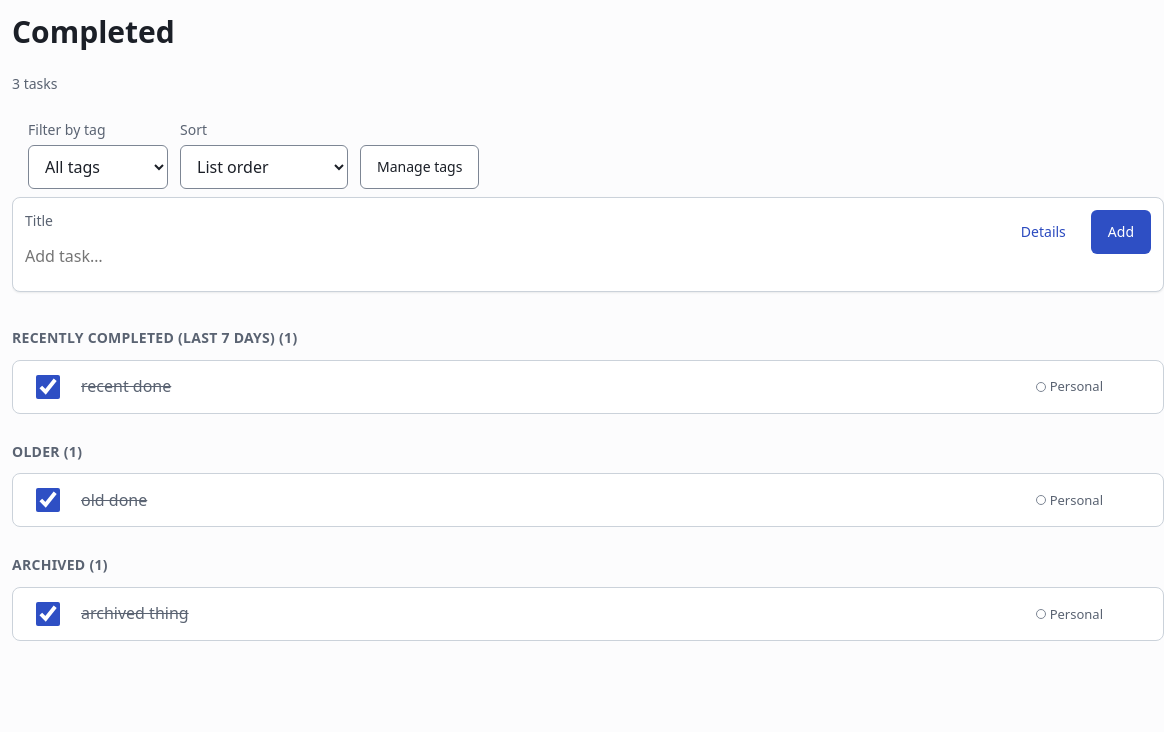
Test: S6 archived rows: restore bindings › checkbox-on-archived RESTORES (never reopens) and announces it
Click the checkbox named "Restore \"archived thing\" from the archive". click: (48, 614)
box: [36,602,60,626]
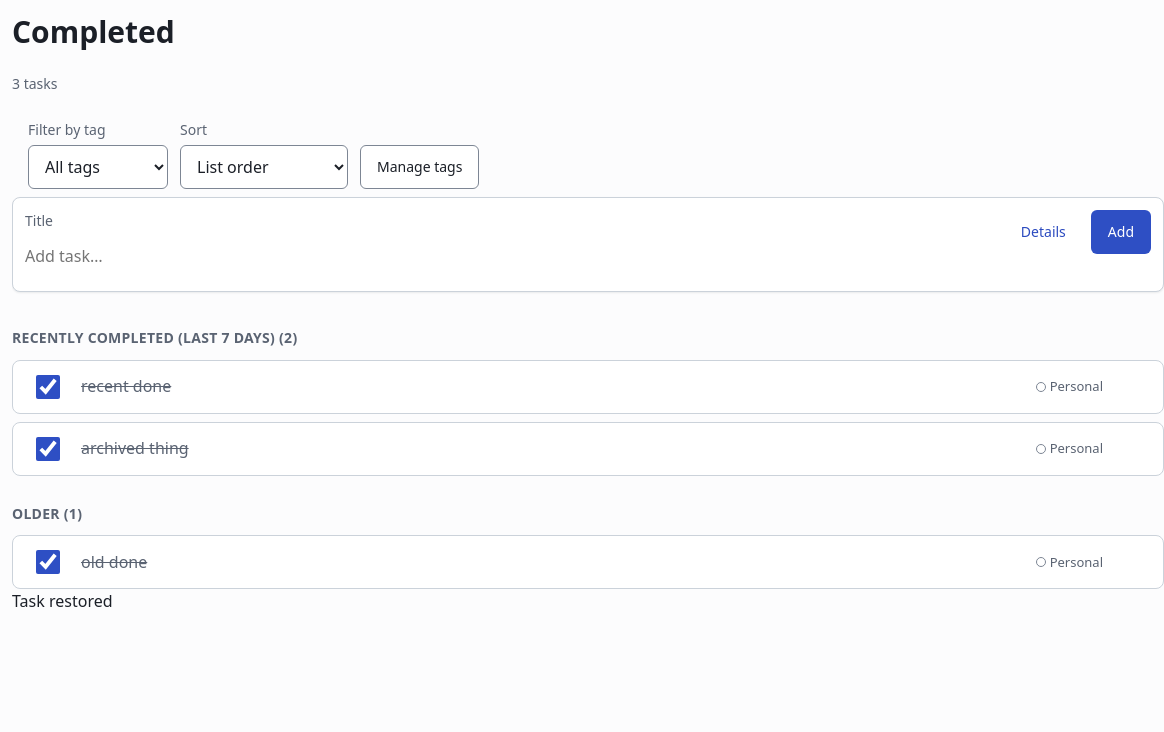
Result: the text "Task restored" is shown at [12,590,112,612]
